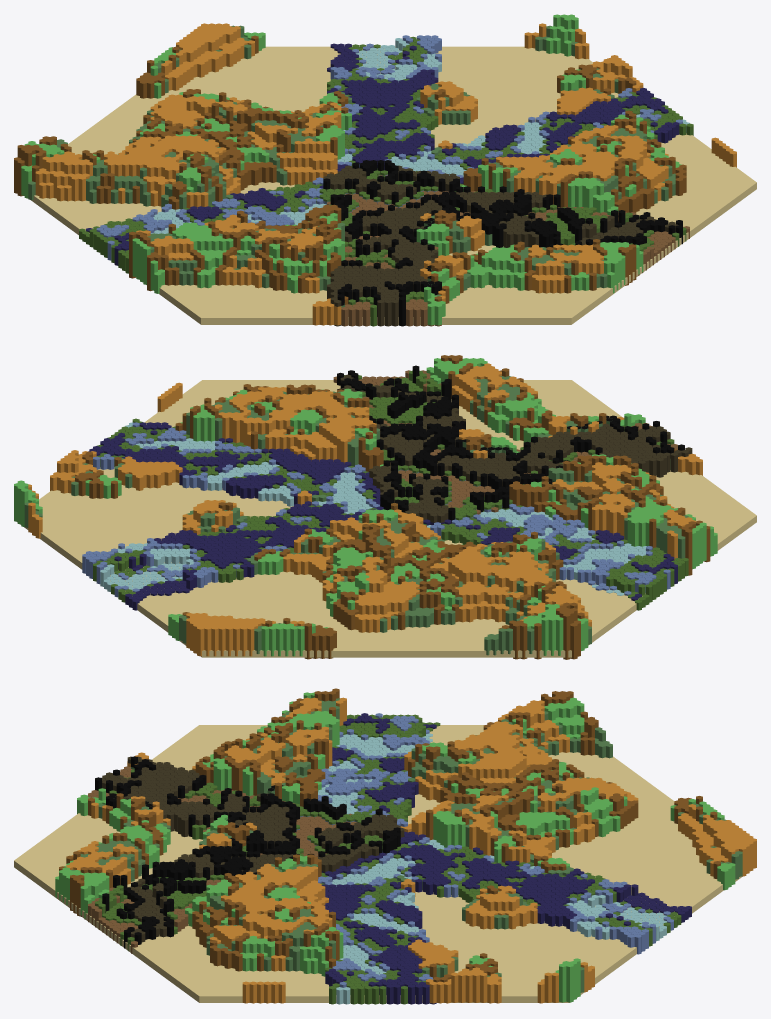
Rendered from 0052_tile_1102001.fbx.
3 renders of one model, top to bottom at view 1: azimuth 30°, elevation 25°; view 2: azimuth 150°, elevation 25°; view 3: azimuth 270°, elevation 25°, orthographic.
Parts seen in each view (by area): view 1: Plane; view 2: Plane; view 3: Plane.
Boxes of the visible parts, bbox=[...] form: Plane: bbox=[14, 14, 756, 326]; Plane: bbox=[14, 355, 756, 659]; Plane: bbox=[14, 688, 756, 1004].
Bounding box in the file's own units: 1008 × 74.25 × 1152.
